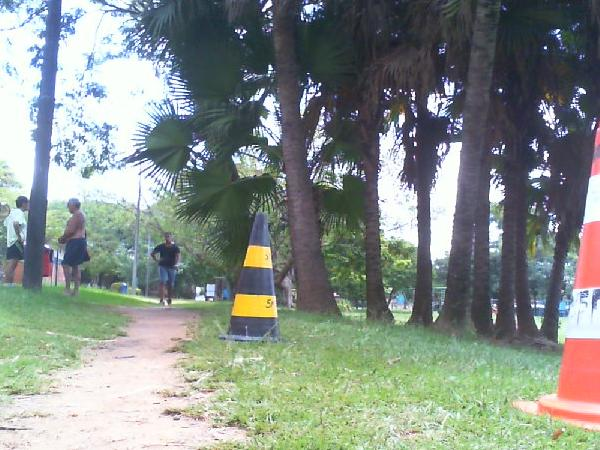0 cone: (513, 115, 600, 435), (217, 212, 289, 341)
